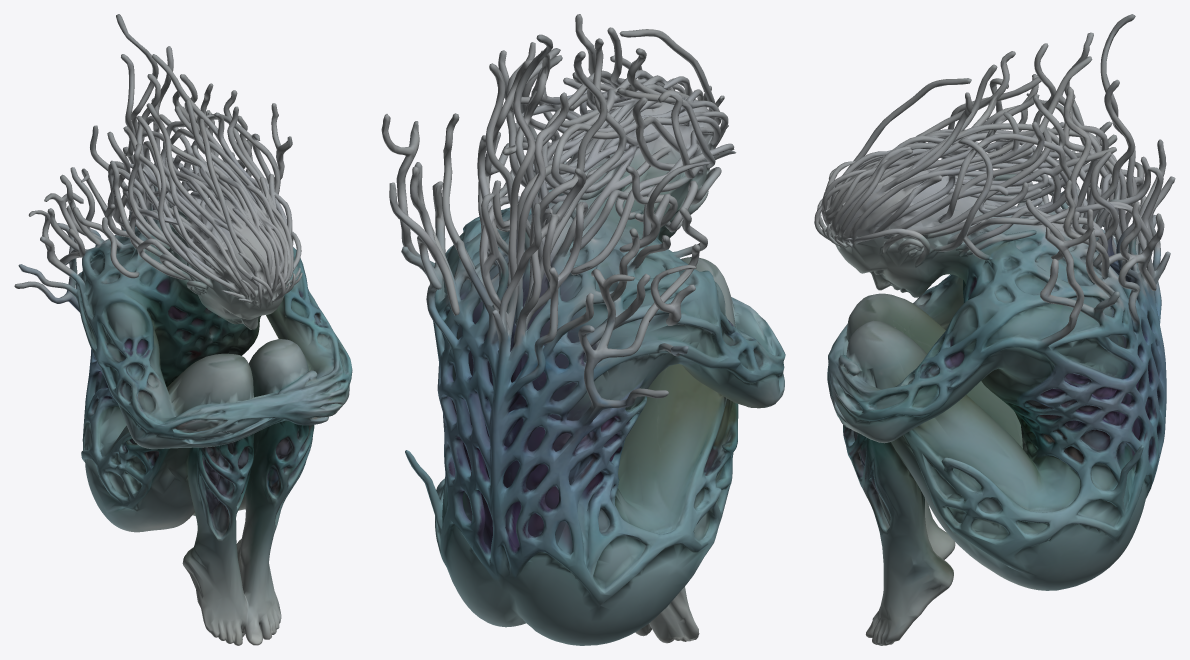
The model's file is annie-body-mobile.glb.
3 views of the same model, side by side, from view 1: azimuth 30°, elevation 25°; view 2: azimuth 150°, elevation 25°; view 3: azimuth 270°, elevation 25° (orthographic). The views are drawn at different scales.
Parts seen in each view (by area): view 1: node_0; view 2: node_0; view 3: node_0.
Boxes of the visible parts, x1,y1,x2,y2 form: node_0: [14, 14, 352, 645]; node_0: [381, 14, 785, 645]; node_0: [814, 14, 1175, 645].
Size of the model in its own units: 0.5216 by 1.11 by 0.5917.
Materials: 1 (1 with a texture image).
